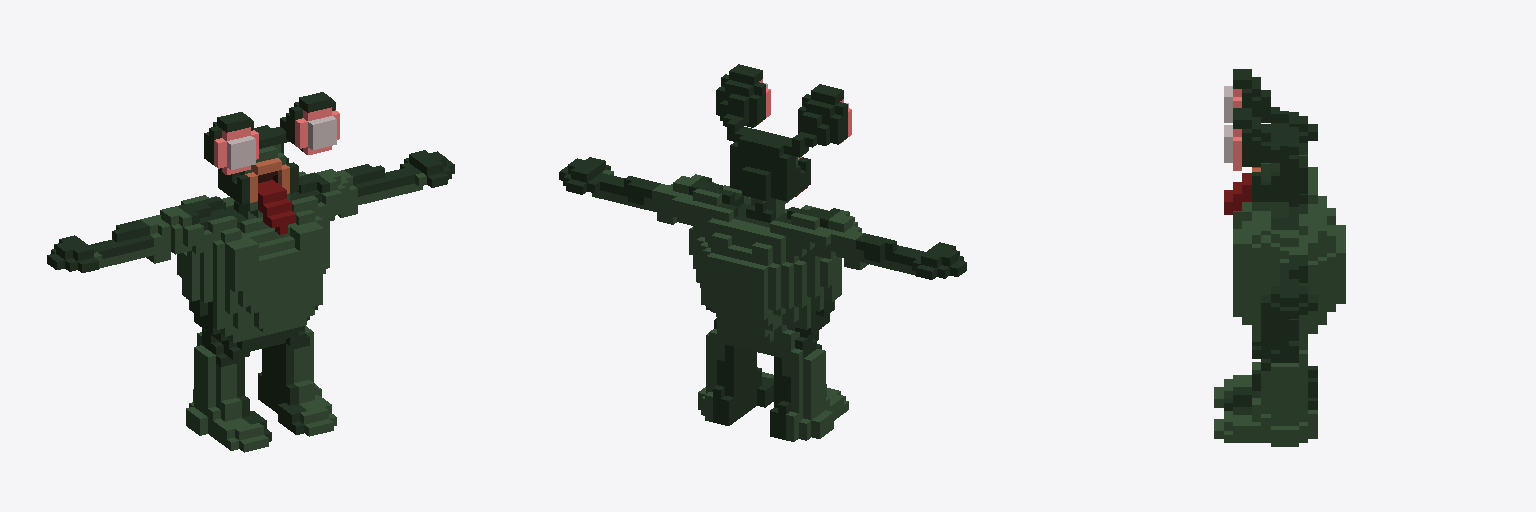
The picture shows the model from 3 angles: view 1: azimuth 30°, elevation 25°; view 2: azimuth 150°, elevation 25°; view 3: azimuth 270°, elevation 25°; orthographic projection.
Visible parts, largest first — view 1: object 1; view 2: object 1; view 3: object 1.
Part boxes in pixels (bbox=[...]): object 1: bbox=[47, 92, 454, 452]; object 1: bbox=[559, 64, 966, 441]; object 1: bbox=[1214, 69, 1345, 446].
Bounding box in the file's own units: 4.9 × 3.8 × 1.4.
Materials: 1 (1 with a texture image).